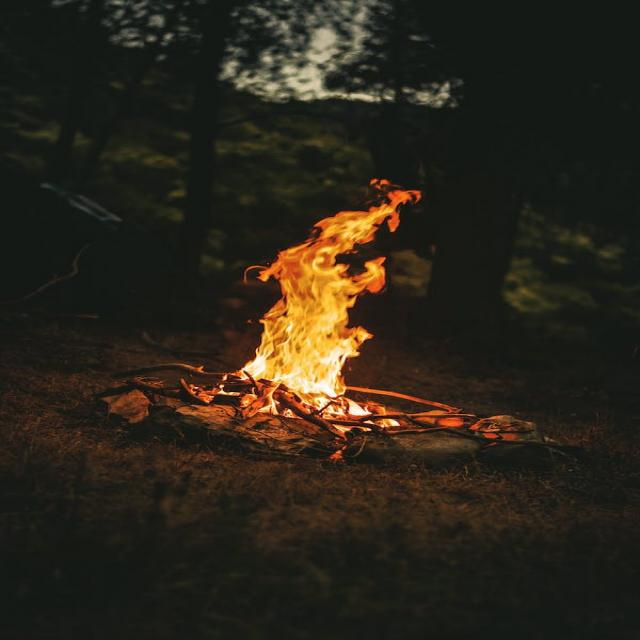fire: (230, 153, 433, 414)
